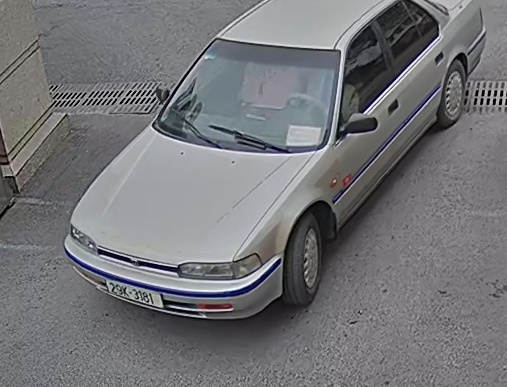vehicle plate: (107, 278, 166, 309)
